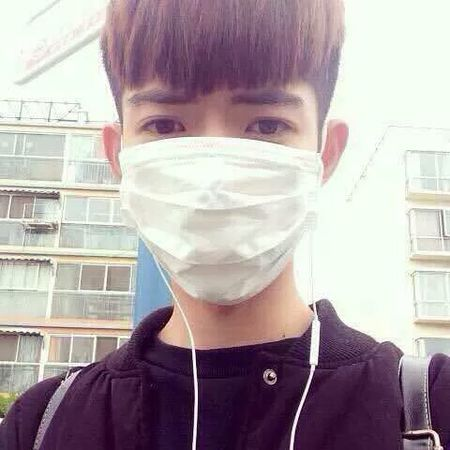face_mask: (118, 87, 321, 308)
